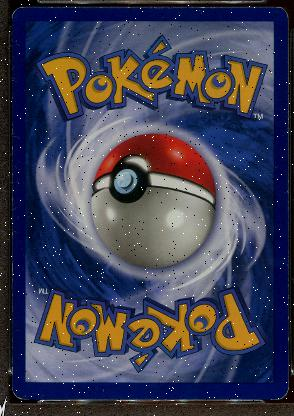Corner Wear: (265, 386, 290, 400), (9, 386, 30, 402), (272, 5, 289, 21), (10, 3, 25, 19)
Edge Wear: (123, 6, 233, 12), (282, 177, 288, 235), (285, 276, 287, 370), (43, 6, 116, 8), (11, 33, 13, 91), (11, 260, 13, 314), (11, 143, 13, 175)
Scratch: (278, 122, 287, 140), (13, 158, 22, 170), (31, 390, 44, 398), (259, 203, 271, 209), (11, 134, 22, 140), (11, 228, 17, 238), (270, 162, 277, 170), (15, 38, 20, 48), (255, 366, 261, 372), (238, 170, 246, 174), (15, 178, 20, 184)
